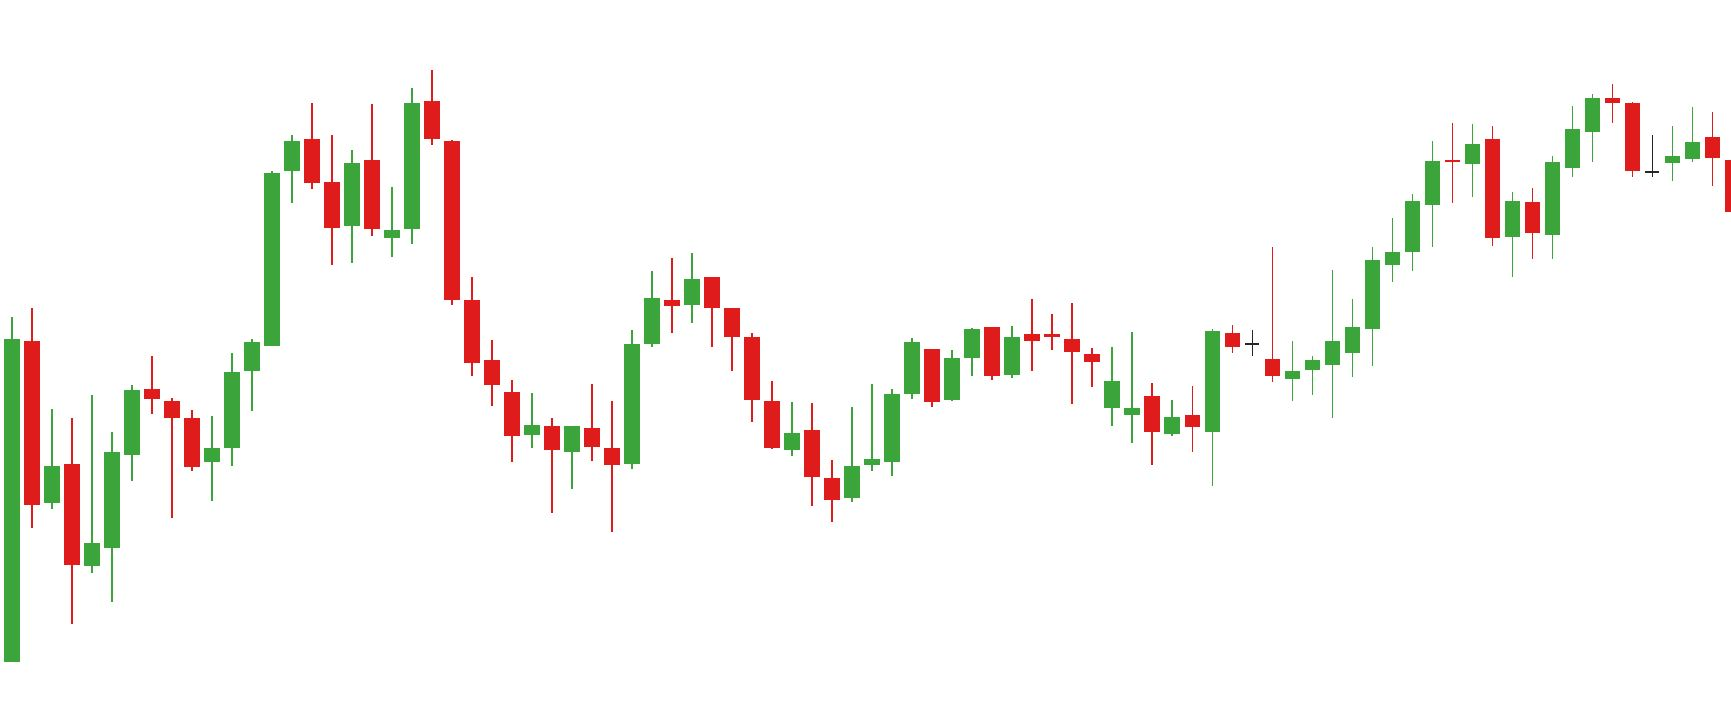sell: (1444, 85, 1643, 214), (305, 70, 440, 224)
